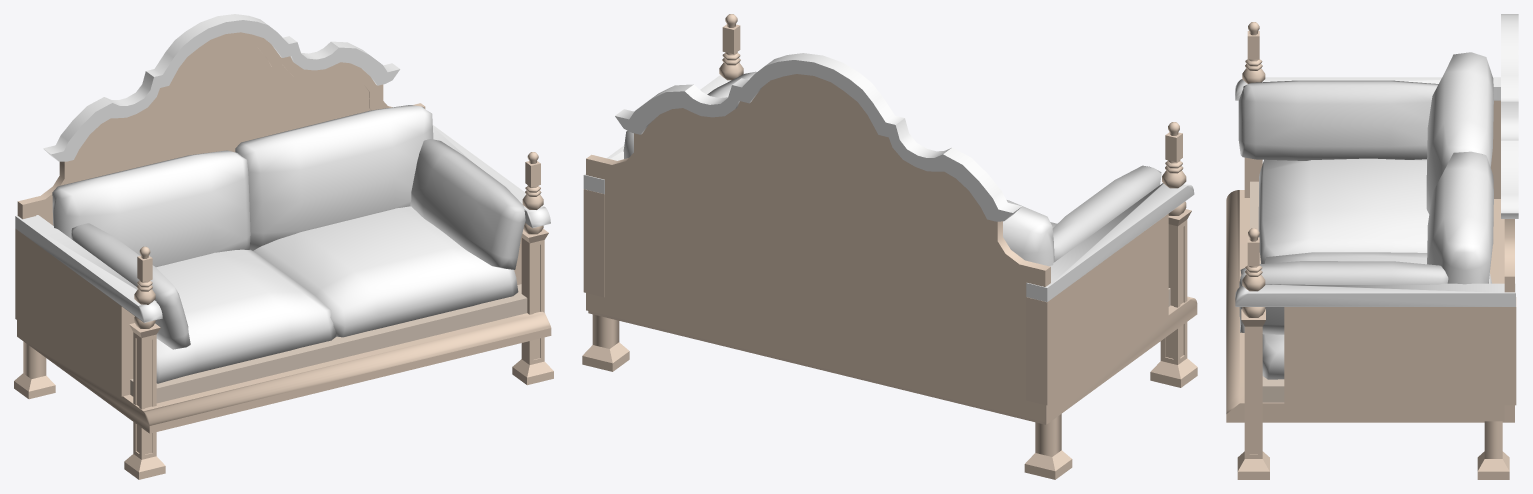
The model's file is Couch_A.fbx.
3 views of the same model, side by side, from view 1: azimuth 30°, elevation 25°; view 2: azimuth 150°, elevation 25°; view 3: azimuth 270°, elevation 25° (orthographic). The views are drawn at different scales.
Parts seen in each view (by area): view 1: polySurface27.001, polySurface33, polySurface35, polySurface34, polySurface32, polySurface4, polySurface13, polySurface1, polySurface28.001, polySurface3, polySurface20.002, polySurface20.004 (+3 smaller); view 2: polySurface27.001, polySurface13, polySurface28.001, polySurface20.002, polySurface24, polySurface4, polySurface2, polySurface20.004, polySurface34, polySurface13.002, polySurface24.001; view 3: polySurface13.002, polySurface32, polySurface2, polySurface4, polySurface35, polySurface34, polySurface20.004, polySurface24.001, polySurface1, polySurface28.001, polySurface33, polySurface20.002 (+4 smaller).
Boxes of the visible parts, left/top/right/bottom form: polySurface27.001: left=17, top=32, right=425, bottom=225; polySurface33: left=253, top=206, right=518, bottom=337; polySurface35: left=235, top=105, right=433, bottom=250; polySurface34: left=52, top=150, right=250, bottom=267; polySurface32: left=156, top=249, right=336, bottom=383; polySurface4: left=17, top=311, right=551, bottom=433; polySurface13: left=15, top=228, right=134, bottom=396; polySurface1: left=410, top=139, right=525, bottom=269; polySurface28.001: left=43, top=14, right=400, bottom=161; polySurface3: left=130, top=284, right=527, bottom=403; polySurface20.002: left=14, top=246, right=165, bottom=479; polySurface20.004: left=512, top=152, right=553, bottom=385; polySurface27.001: left=586, top=74, right=1050, bottom=422; polySurface13: left=1026, top=214, right=1168, bottom=405; polySurface28.001: left=615, top=53, right=1021, bottom=221; polySurface20.002: left=1024, top=122, right=1197, bottom=479; polySurface24: left=1026, top=183, right=1194, bottom=301; polySurface4: left=588, top=296, right=1197, bottom=424; polySurface2: left=1052, top=165, right=1161, bottom=261; polySurface20.004: left=582, top=14, right=743, bottom=371; polySurface34: left=1003, top=200, right=1054, bottom=266; polySurface13.002: left=583, top=189, right=604, bottom=297; polySurface24.001: left=583, top=75, right=730, bottom=193; polySurface13.002: left=1284, top=297, right=1516, bottom=405; polySurface32: left=1258, top=158, right=1493, bottom=263; polySurface2: left=1238, top=80, right=1438, bottom=160; polySurface4: left=1226, top=190, right=1514, bottom=422; polySurface35: left=1427, top=151, right=1493, bottom=284; polySurface34: left=1426, top=52, right=1493, bottom=213; polySurface20.004: left=1237, top=228, right=1509, bottom=479; polySurface24.001: left=1235, top=283, right=1515, bottom=306; polySurface1: left=1239, top=261, right=1448, bottom=334; polySurface28.001: left=1501, top=14, right=1518, bottom=218; polySurface33: left=1262, top=252, right=1491, bottom=379; polySurface20.002: left=1242, top=22, right=1265, bottom=197.
Bounding box in the file's own units: 175 × 128 × 97.91.
